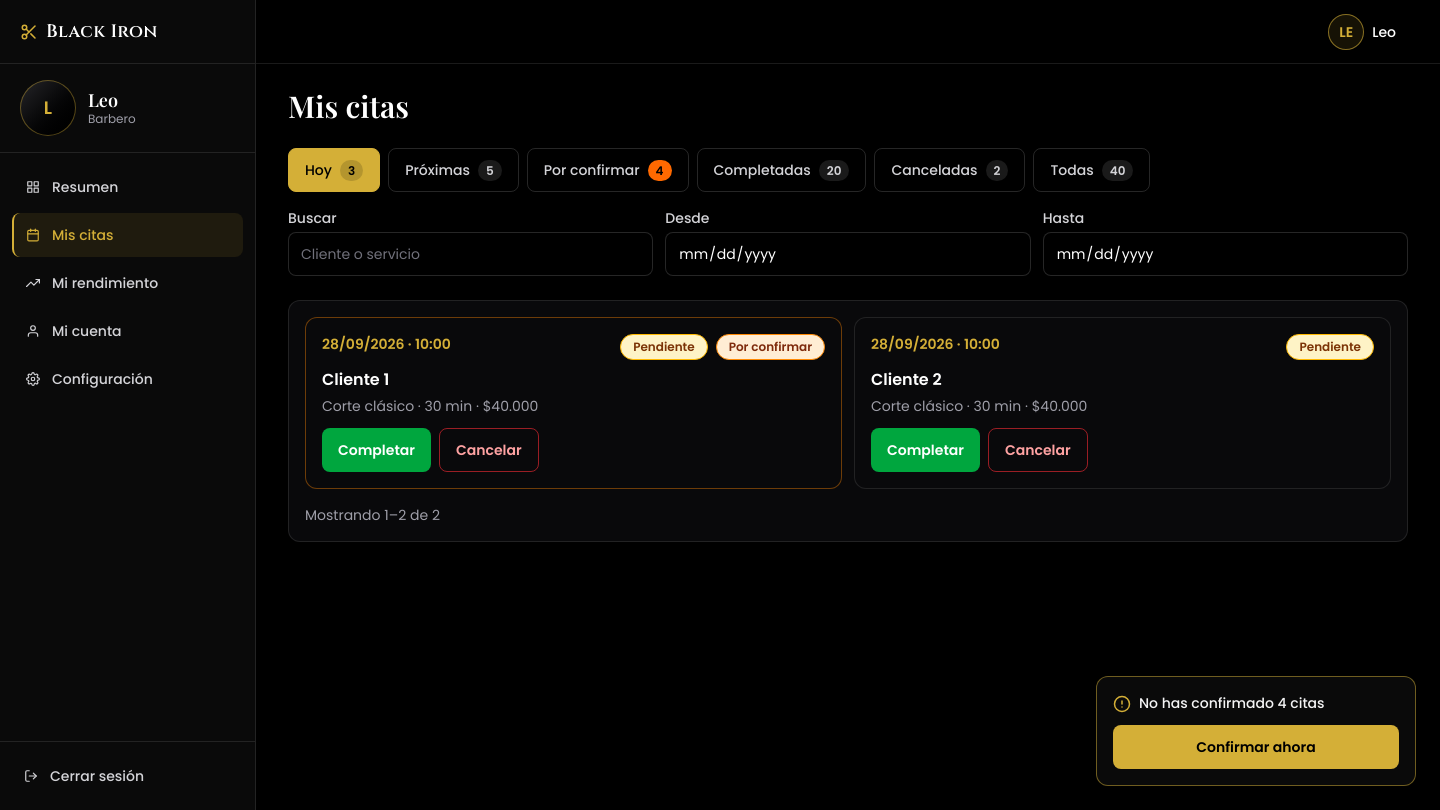
Test: /panel/citas: completar y cancelar › si cancelar falla, el error sale dentro del diálogo
Expected: the text "Mostrando 1–2 de 2" is shown, [305,505,440,525]
Click the button with aria-label "Cancelar la cita de Cliente 2" at (1038, 450), box [988,428,1088,472]
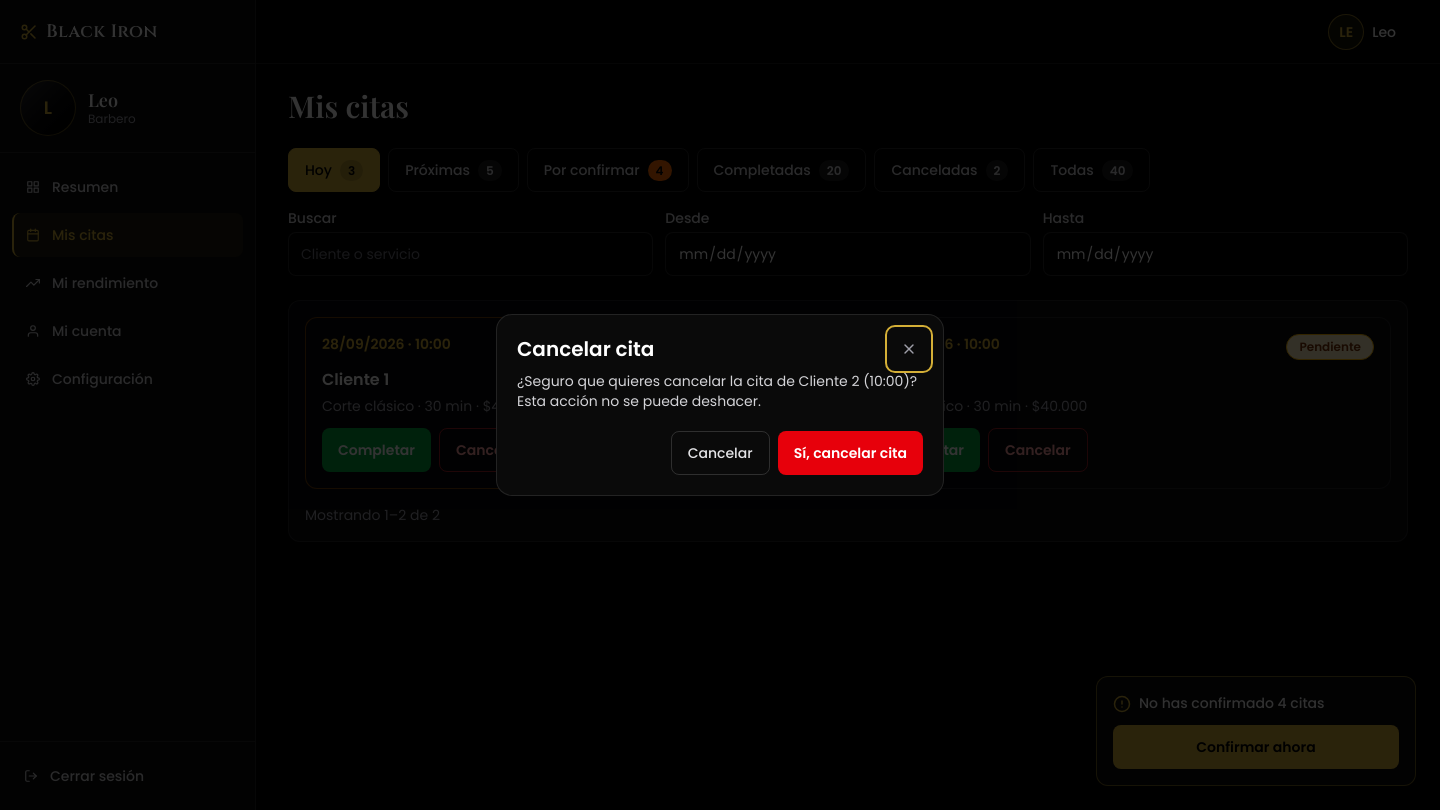
Click the button "Sí, cancelar cita" at (850, 453), box [778,431,923,475]
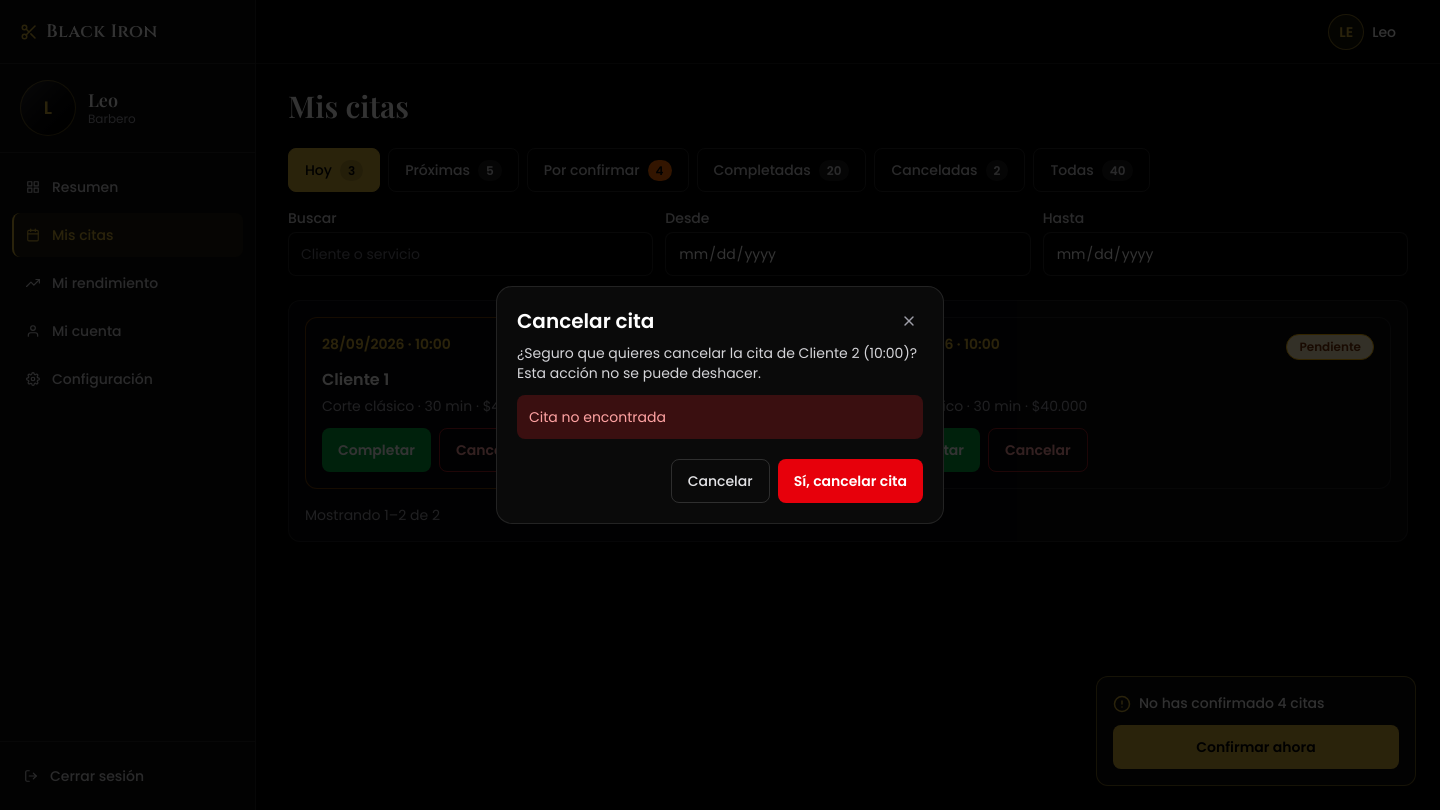
Expected: the message reads "Cita no encontrada", [529,407,666,427]
